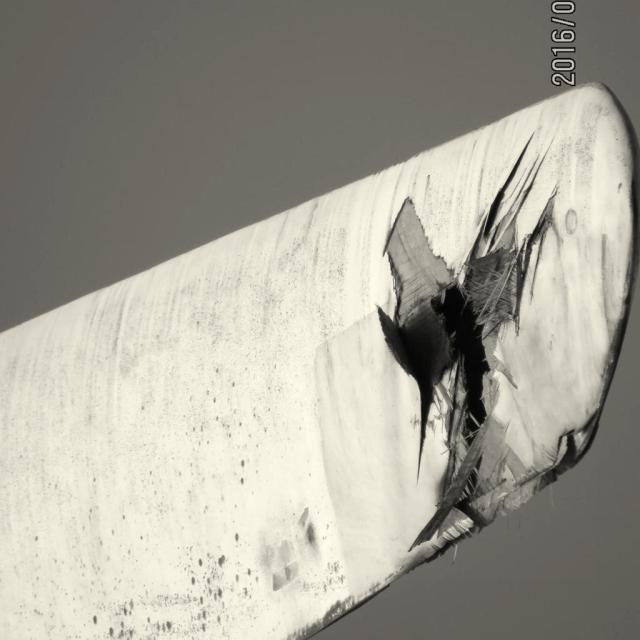crack: (378, 131, 589, 557)
